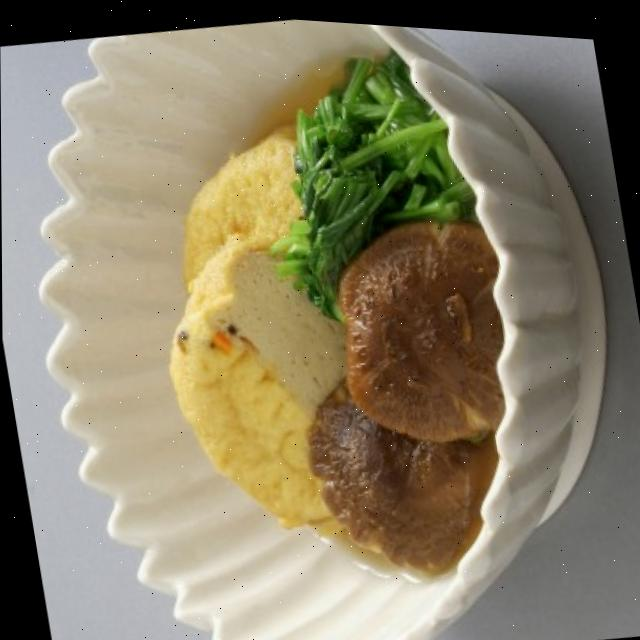熟制海鲜: (83, 4, 553, 640)
